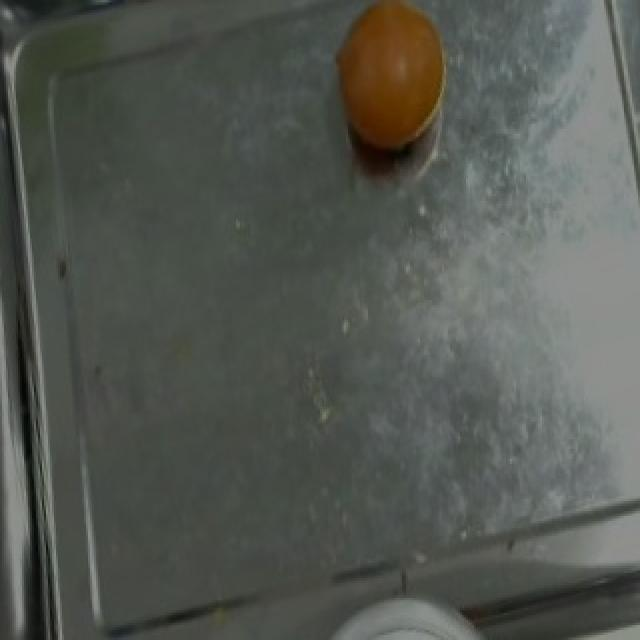Fruit: (318, 0, 456, 166)
